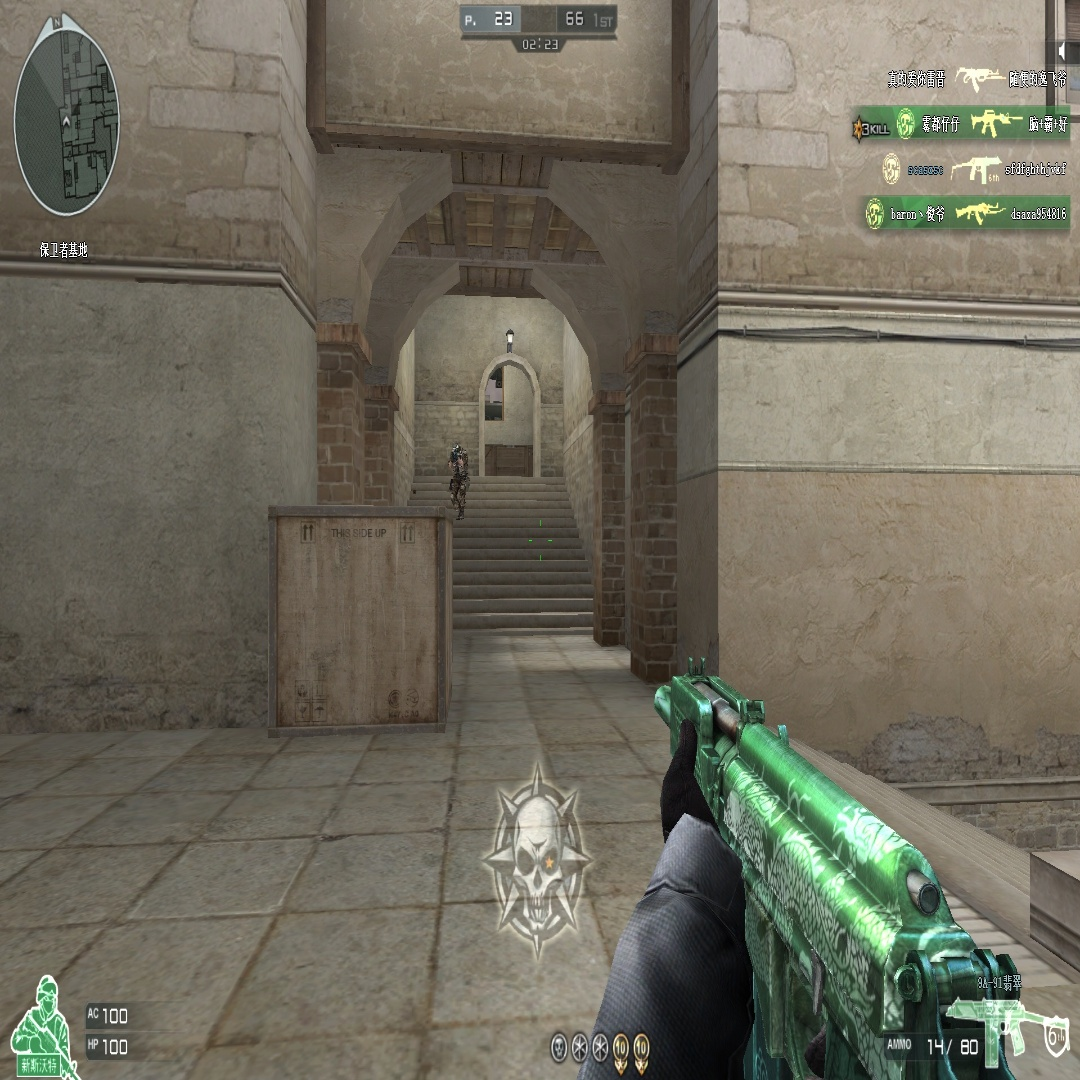head: (452, 441, 461, 454)
p: (448, 445, 469, 514)
